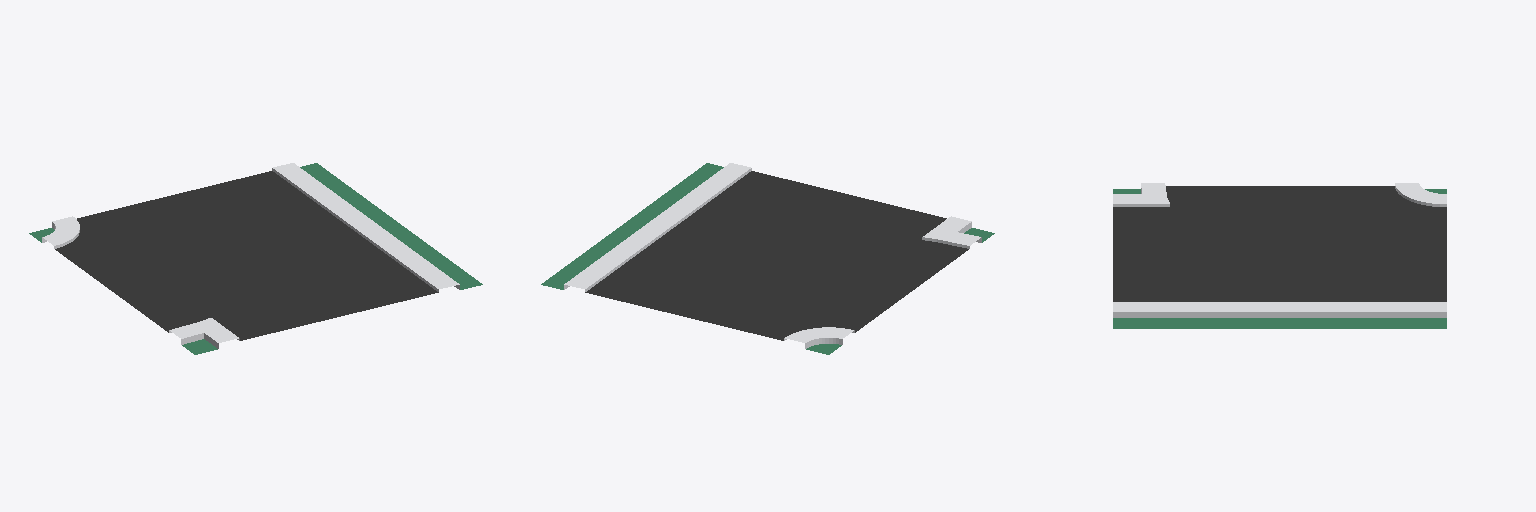
Rendered from roadSplitSmall.obj.
3 views of the same model, side by side, from view 1: azimuth 30°, elevation 25°; view 2: azimuth 150°, elevation 25°; view 3: azimuth 270°, elevation 25° (orthographic).
Parts seen in each view (by area): view 1: roadSplitSmall; view 2: roadSplitSmall; view 3: roadSplitSmall.
Boxes of the visible parts, x1,y1,x2,y2 form: roadSplitSmall: [29, 163, 482, 354]; roadSplitSmall: [541, 163, 994, 354]; roadSplitSmall: [1113, 183, 1446, 328].
Size of the model in its own units: 1 by 0.02 by 1.